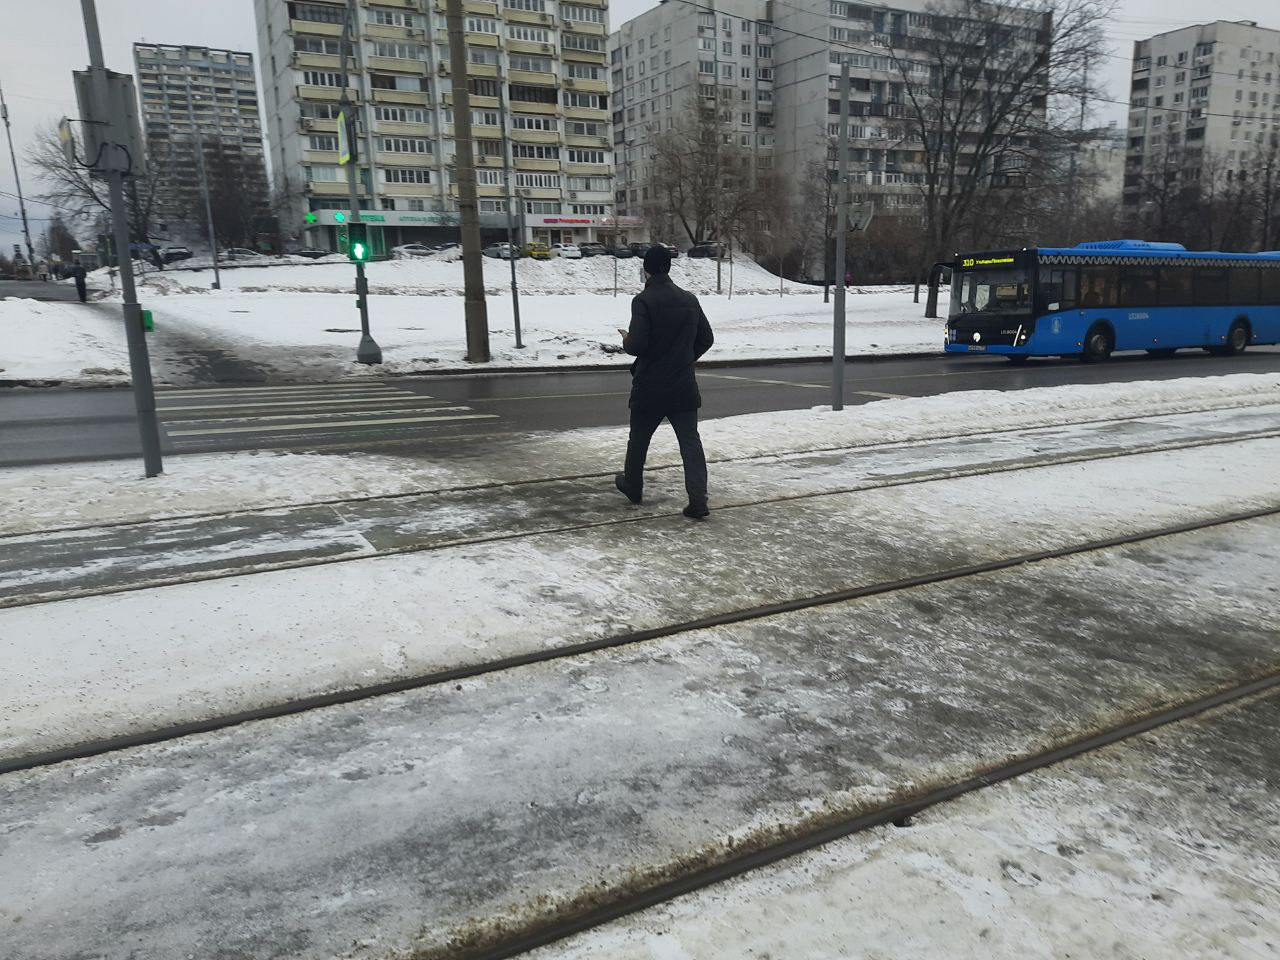sombie: (596, 244, 733, 531)
